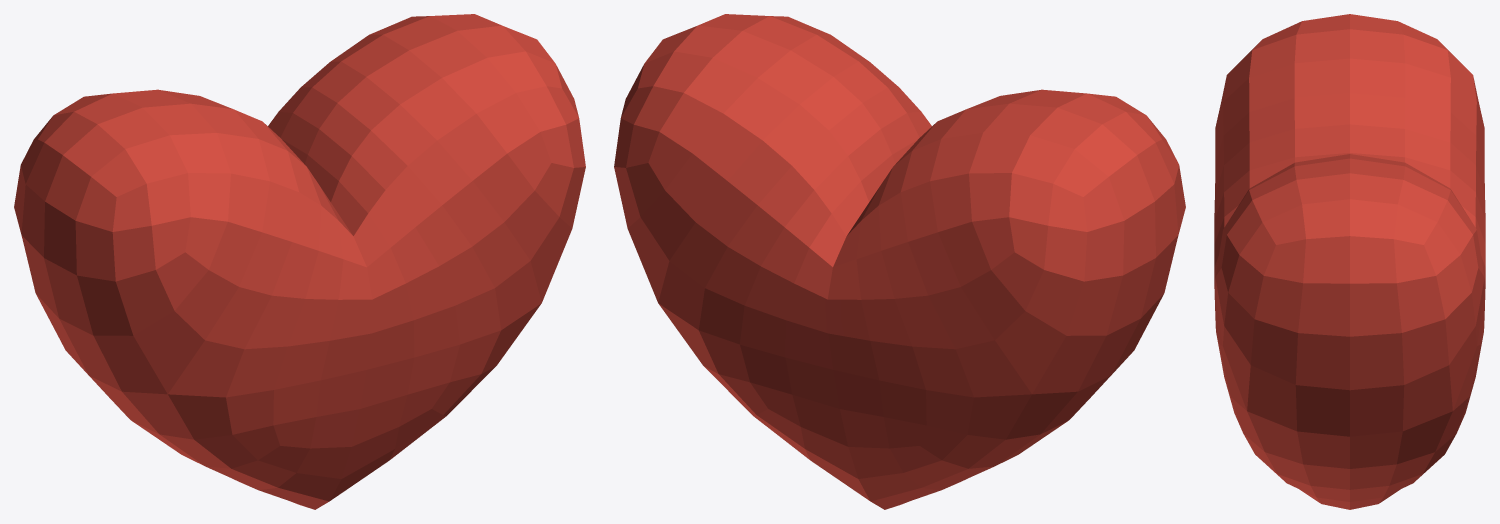
File: Heart.glb
The picture shows the model from 3 angles, left to right: view 1: azimuth 30°, elevation 25°; view 2: azimuth 150°, elevation 25°; view 3: azimuth 270°, elevation 25°; orthographic projection. The views are drawn at different scales.
Visible parts, largest first — view 1: Heart_Cube.003; view 2: Heart_Cube.003; view 3: Heart_Cube.003.
Boxes of the visible parts, <box> form: Heart_Cube.003: <box>14,14,585,509</box>; Heart_Cube.003: <box>614,14,1185,509</box>; Heart_Cube.003: <box>1214,14,1485,509</box>.
Size of the model in its own units: 0.8019 by 0.6522 by 0.3927.
